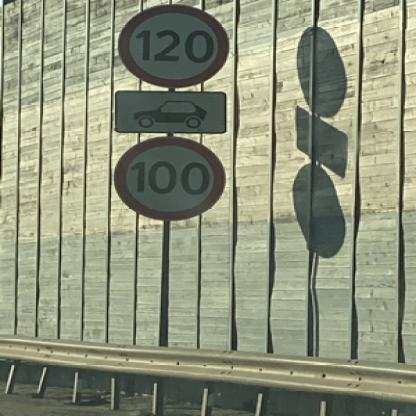Speed Limit 100: (117, 138, 224, 221)
Speed Limit 120: (117, 2, 228, 86)
